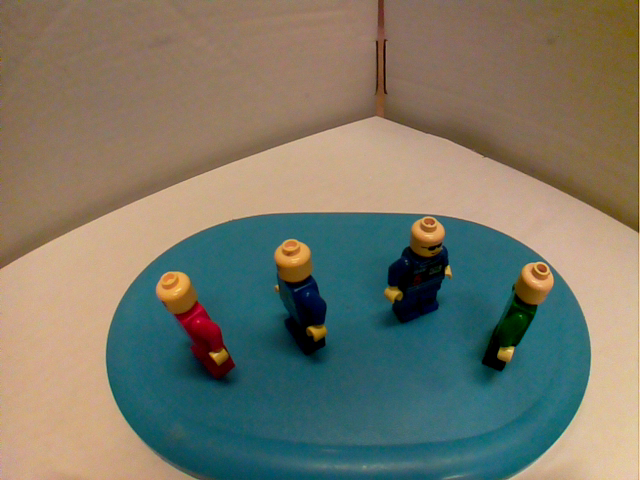Postac LEGO: (148, 265, 240, 383), (477, 255, 561, 382), (264, 232, 336, 363), (380, 210, 456, 330)
